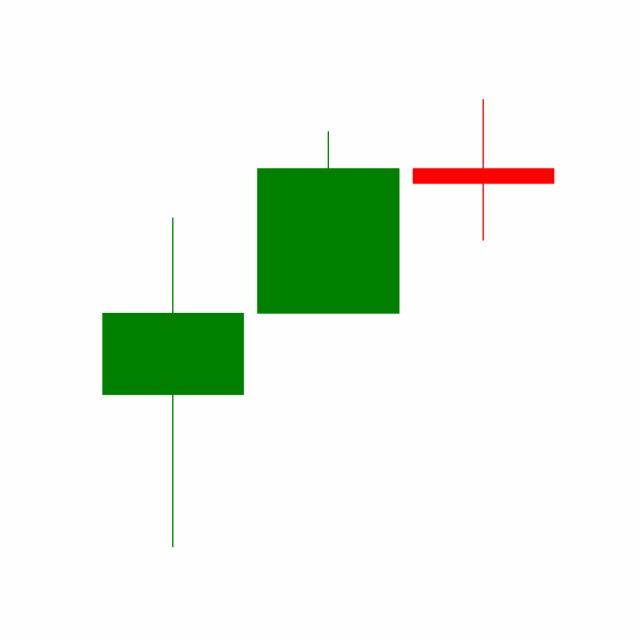Spinning Top: (405, 97, 561, 243)
